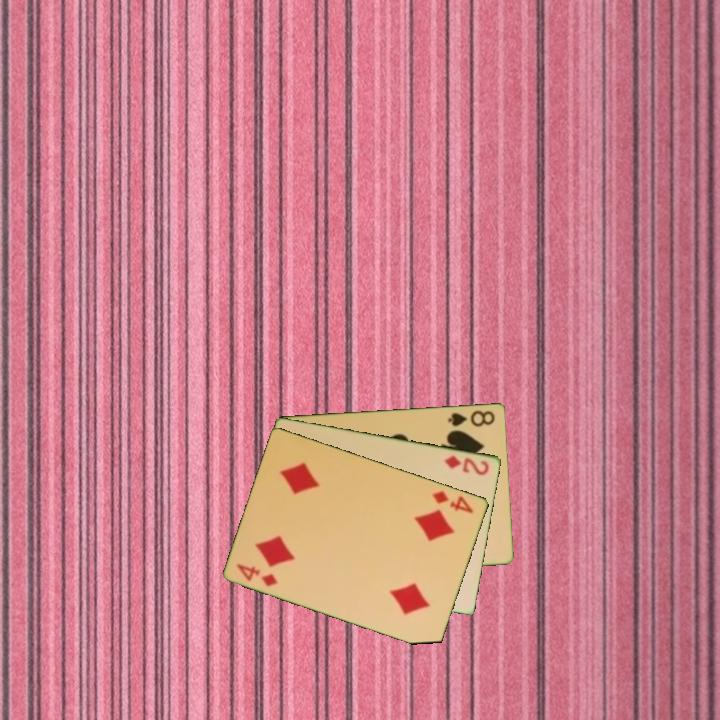2d: (441, 452, 492, 478)
4d: (429, 487, 477, 516), (234, 560, 281, 589)
8s: (445, 407, 498, 429)
